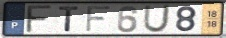6: (116, 5, 139, 34)
8: (175, 5, 198, 33)
F: (25, 4, 55, 34), (84, 5, 112, 34)
T: (58, 6, 82, 33)
U: (142, 4, 172, 34)
